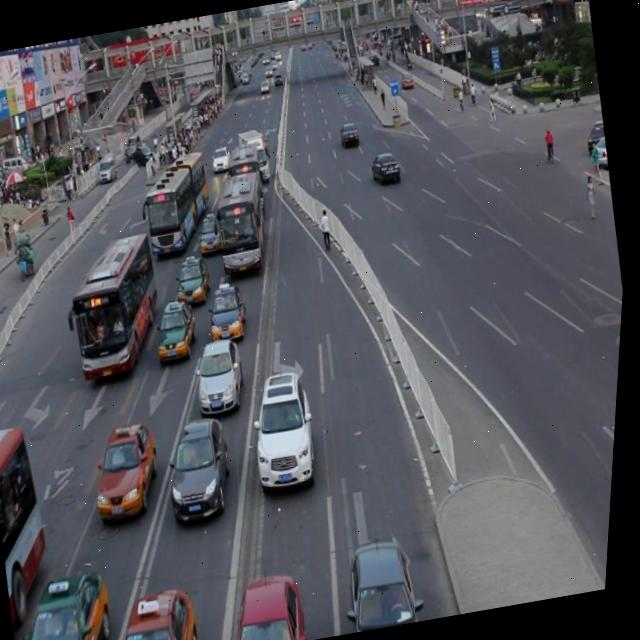bus: (236, 129, 275, 182)
car: (247, 368, 329, 492), (341, 534, 435, 634), (11, 563, 131, 640), (89, 417, 173, 522), (164, 414, 244, 522), (225, 573, 317, 640), (108, 583, 210, 640), (192, 335, 254, 415), (154, 299, 206, 363), (206, 280, 255, 344), (174, 254, 217, 303), (197, 210, 227, 255), (370, 148, 403, 183), (210, 145, 234, 171), (337, 120, 360, 146), (255, 134, 272, 158)
van: (57, 230, 177, 378), (0, 422, 71, 622), (135, 148, 220, 256), (207, 168, 276, 275), (227, 144, 267, 195)
